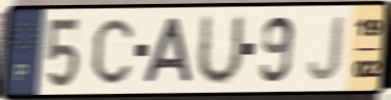5: (43, 15, 84, 90)
9: (258, 14, 294, 84)
A: (141, 16, 195, 86)
C: (91, 16, 136, 87)
J: (305, 13, 346, 83)
U: (193, 12, 247, 89)
